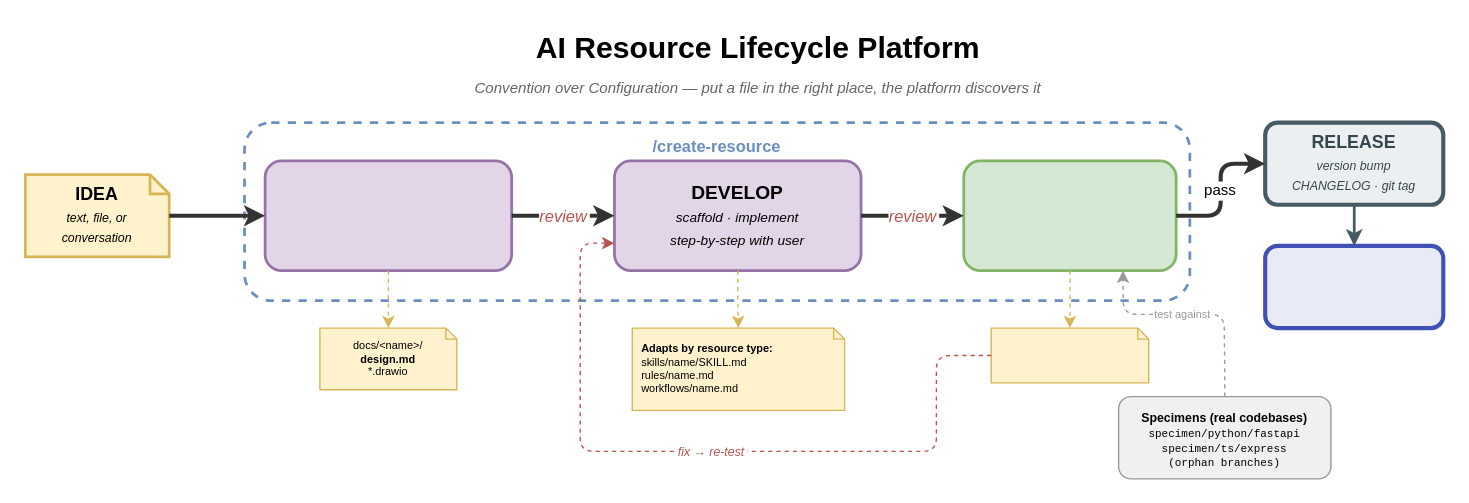
This 1469x503 diagram has some shape labels left out. Here are the shapes that lost their labels. From the top down, the centre of each, then its label:
the point at 387,215: DESIGN clarify · classify design.md · diagrams
the point at 1069,215: TEST auto-detect type run test strategy
the point at 1353,286: DELIVER push to team repos Forge CLI
the point at 1069,355: Test Report pass / fail + details
